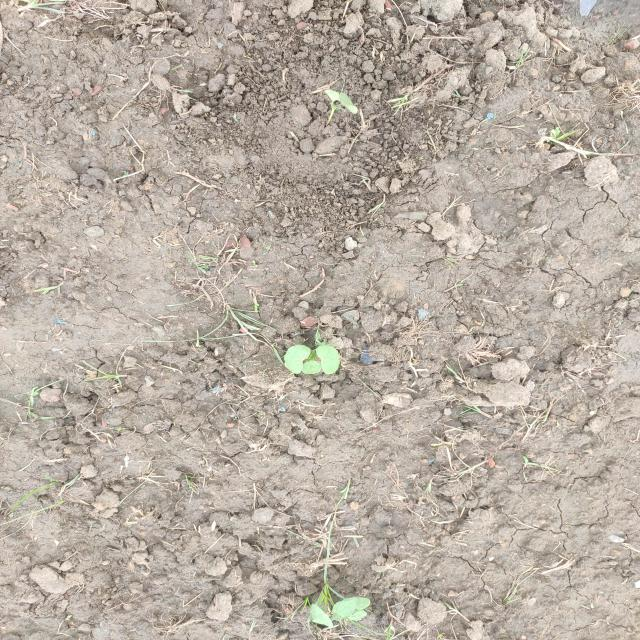seedling_s4: (284, 345, 310, 374), (315, 345, 340, 375), (310, 604, 333, 628), (332, 598, 356, 617), (340, 92, 358, 114), (342, 597, 370, 609), (301, 360, 321, 374), (349, 610, 367, 621)
